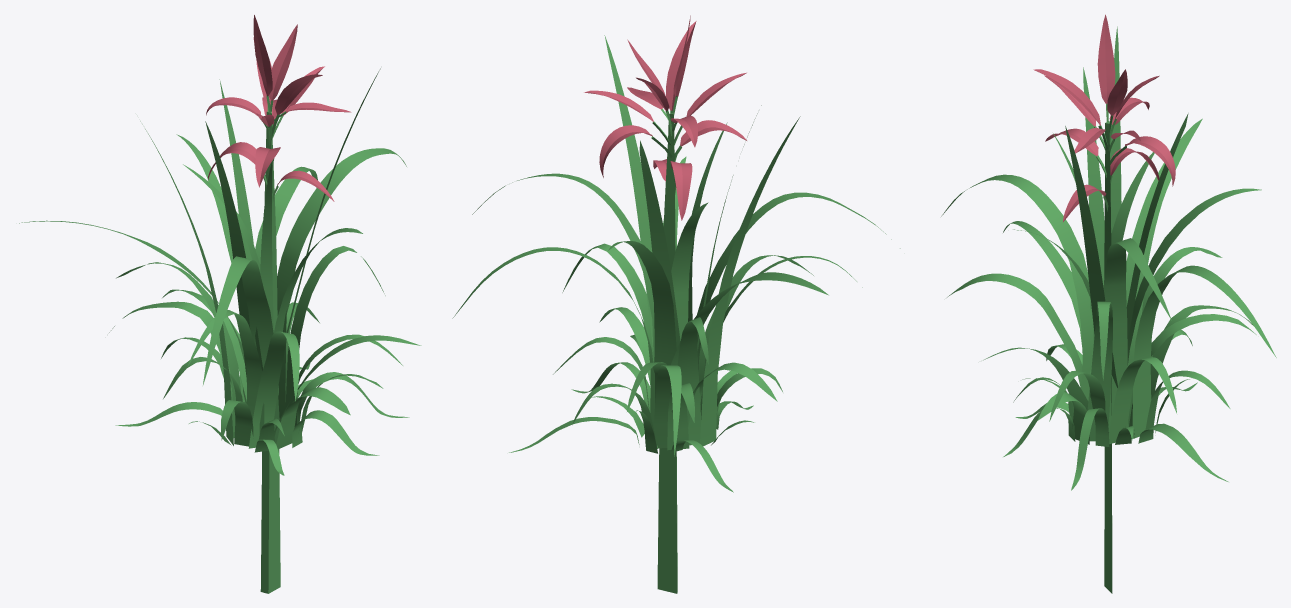
The model's file is plant_flower_A.fbx.
The picture shows the model from 3 angles, left to right: view 1: azimuth 30°, elevation 25°; view 2: azimuth 150°, elevation 25°; view 3: azimuth 270°, elevation 25°; orthographic projection. The views are drawn at different scales.
Parts seen in each view (by area): view 1: plant_flower_A, plant_flower_A_branch, plant_flower_A_flower_13, plant_flower_A_flower_08, plant_flower_A_flower_02, plant_flower_A_flower_07; view 2: plant_flower_A, plant_flower_A_branch, plant_flower_A_flower_02, plant_flower_A_flower_04, plant_flower_A_flower_09; view 3: plant_flower_A, plant_flower_A_branch, plant_flower_A_flower_08, plant_flower_A_flower_02, plant_flower_A_flower_04, plant_flower_A_flower_13.
Boxes of the visible parts, <box> form: plant_flower_A: <box>19,68,421,475</box>; plant_flower_A_branch: <box>260,111,280,593</box>; plant_flower_A_flower_13: <box>269,24,297,111</box>; plant_flower_A_flower_08: <box>253,15,272,114</box>; plant_flower_A_flower_02: <box>271,74,322,140</box>; plant_flower_A_flower_07: <box>255,147,280,187</box>; plant_flower_A: <box>452,35,900,492</box>; plant_flower_A_branch: <box>657,113,677,593</box>; plant_flower_A_flower_02: <box>666,21,696,113</box>; plant_flower_A_flower_04: <box>599,125,672,177</box>; plant_flower_A_flower_09: <box>670,161,692,220</box>; plant_flower_A: <box>941,26,1276,490</box>; plant_flower_A_branch: <box>1104,121,1112,593</box>; plant_flower_A_flower_08: <box>1097,14,1115,122</box>; plant_flower_A_flower_02: <box>1033,69,1107,150</box>; plant_flower_A_flower_04: <box>1110,136,1175,186</box>; plant_flower_A_flower_13: <box>1107,69,1127,132</box>.
Bounding box in the file's own units: 165 × 244 × 132.
